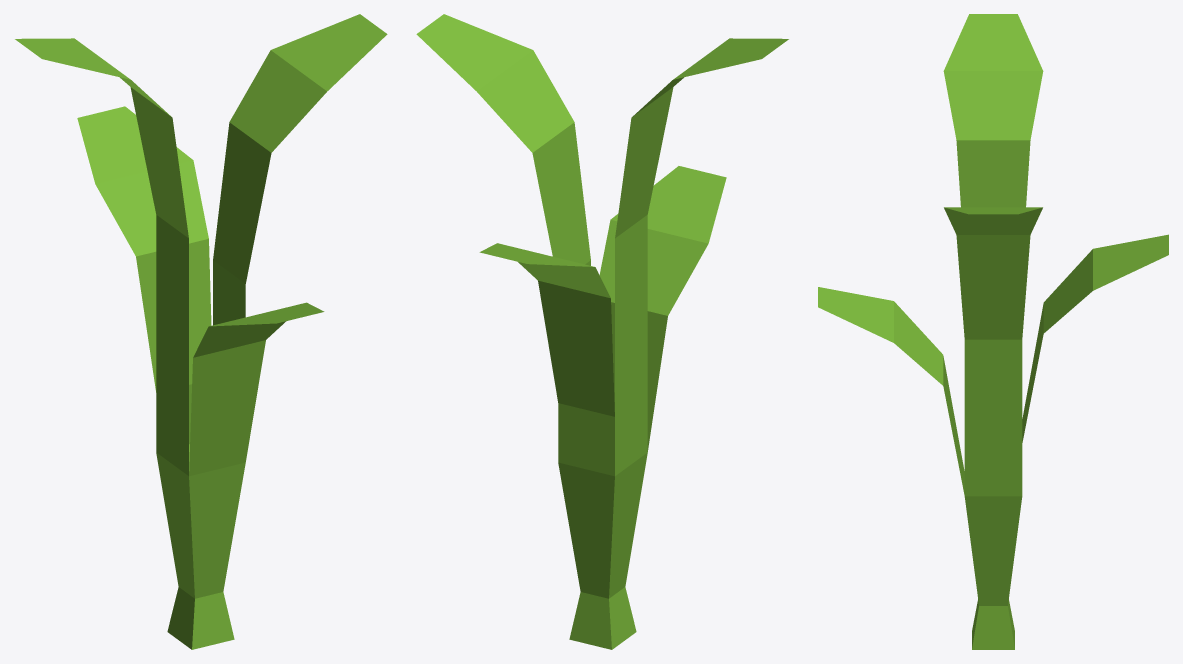
The model's file is sprout_b.glb.
3 renders of one model, left to right at view 1: azimuth 30°, elevation 25°; view 2: azimuth 150°, elevation 25°; view 3: azimuth 270°, elevation 25°, orthographic. The views are drawn at different scales.
Parts seen in each view (by area): view 1: crops_leafsStageB; view 2: crops_leafsStageB; view 3: crops_leafsStageB.
Part boxes in pixels (x1=…): crops_leafsStageB: x1=15, y1=14, x2=387, y2=649; crops_leafsStageB: x1=416, y1=14, x2=788, y2=649; crops_leafsStageB: x1=818, y1=14, x2=1168, y2=649.
Size of the model in its own units: 0.3504 by 0.6094 by 0.3504.
